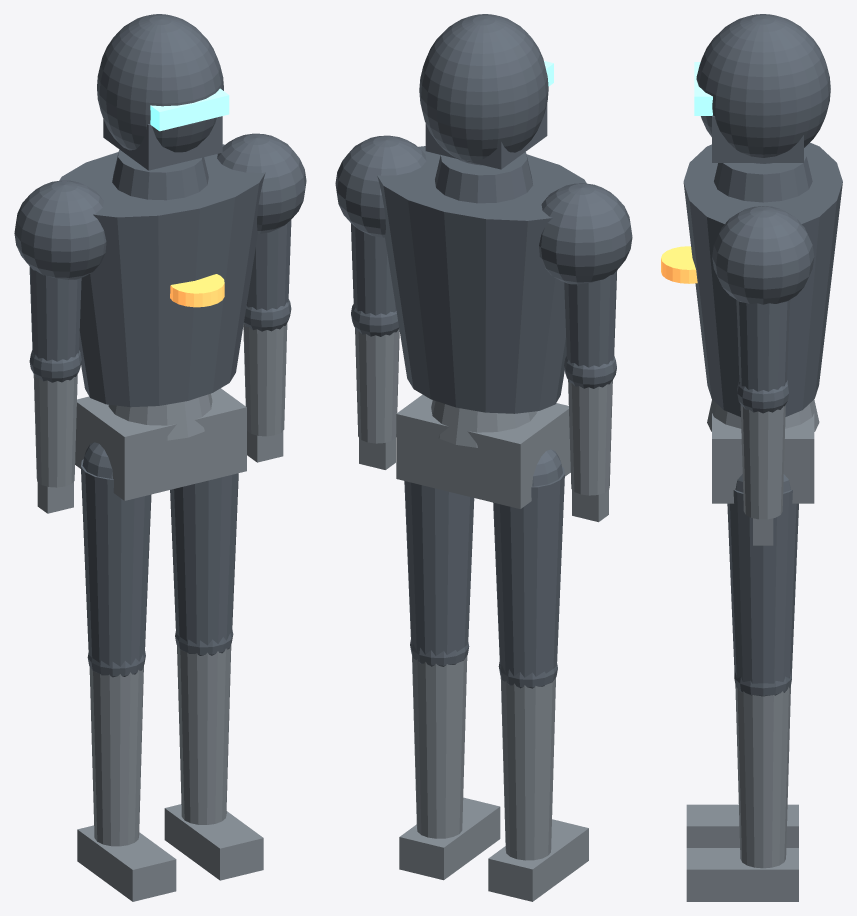
Rendered from character.glb.
3 renders of one model, left to right at view 1: azimuth 30°, elevation 25°; view 2: azimuth 150°, elevation 25°; view 3: azimuth 270°, elevation 25°, orthographic.
Visible parts, largest first — view 1: Torso, Head, Hips, LeftLeg, RightLeg, LeftUpLeg, RightUpLeg, LeftForeArm, RightForeArm, LeftArm, RightArm, Visor (+1 smaller); view 2: Torso, Head, Hips, RightLeg, LeftLeg, LeftUpLeg, RightUpLeg, LeftForeArm, RightForeArm, LeftArm, RightArm; view 3: Torso, Head, RightLeg, RightUpLeg, Hips, RightArm, RightForeArm, LeftLeg, ChestCore, Visor.
Part boxes in pixels (<box>): Torso: <box>14,133,306,407</box>; Head: <box>97,14,223,170</box>; Hips: <box>75,388,246,500</box>; LeftLeg: <box>77,666,176,901</box>; RightLeg: <box>164,645,263,880</box>; LeftUpLeg: <box>81,442,151,677</box>; RightUpLeg: <box>170,473,238,655</box>; LeftForeArm: <box>33,374,77,513</box>; RightForeArm: <box>243,323,287,462</box>; LeftArm: <box>29,266,81,382</box>; RightArm: <box>244,220,291,331</box>; Visor: <box>150,88,229,131</box>; Torso: <box>335,135,632,413</box>; Head: <box>419,14,548,169</box>; Hips: <box>396,394,570,509</box>; RightLeg: <box>399,655,500,880</box>; LeftLeg: <box>488,677,588,901</box>; LeftUpLeg: <box>493,449,564,688</box>; RightUpLeg: <box>404,481,474,666</box>; LeftForeArm: <box>568,380,612,522</box>; RightForeArm: <box>355,328,399,469</box>; LeftArm: <box>564,270,617,388</box>; RightArm: <box>351,223,398,336</box>; Torso: <box>683,142,842,416</box>; Head: <box>696,14,830,163</box>; RightLeg: <box>686,685,798,901</box>; RightUpLeg: <box>727,474,798,696</box>; Hips: <box>707,399,819,503</box>; RightArm: <box>736,300,789,413</box>; RightForeArm: <box>740,404,785,545</box>; LeftLeg: <box>686,804,798,847</box>; ChestCore: <box>661,246,697,283</box>; Visor: <box>694,62,712,115</box>.
Bounding box in the file's own units: 0.64 × 1.84 × 0.356.
